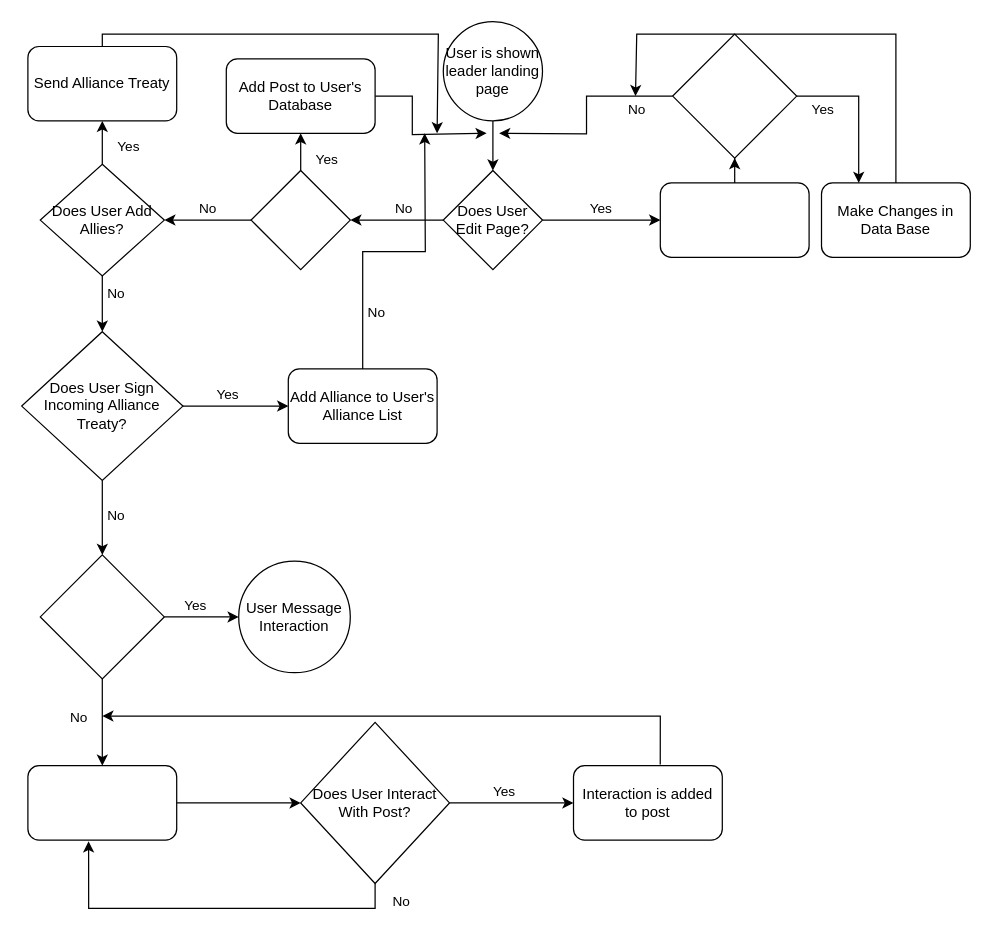
This 992x940 diagram has some shape labels left out. The box of each missing label's shape, as (x1, y1, x2, y2) in pixels:
Does User Interact With Messages?: (39, 554, 164, 679)
Does User Make Post?: (250, 169, 350, 270)
Does User Save Changes?: (671, 33, 797, 158)
User Browses Content: (27, 764, 177, 840)
User Makes Edits: (659, 182, 809, 257)
